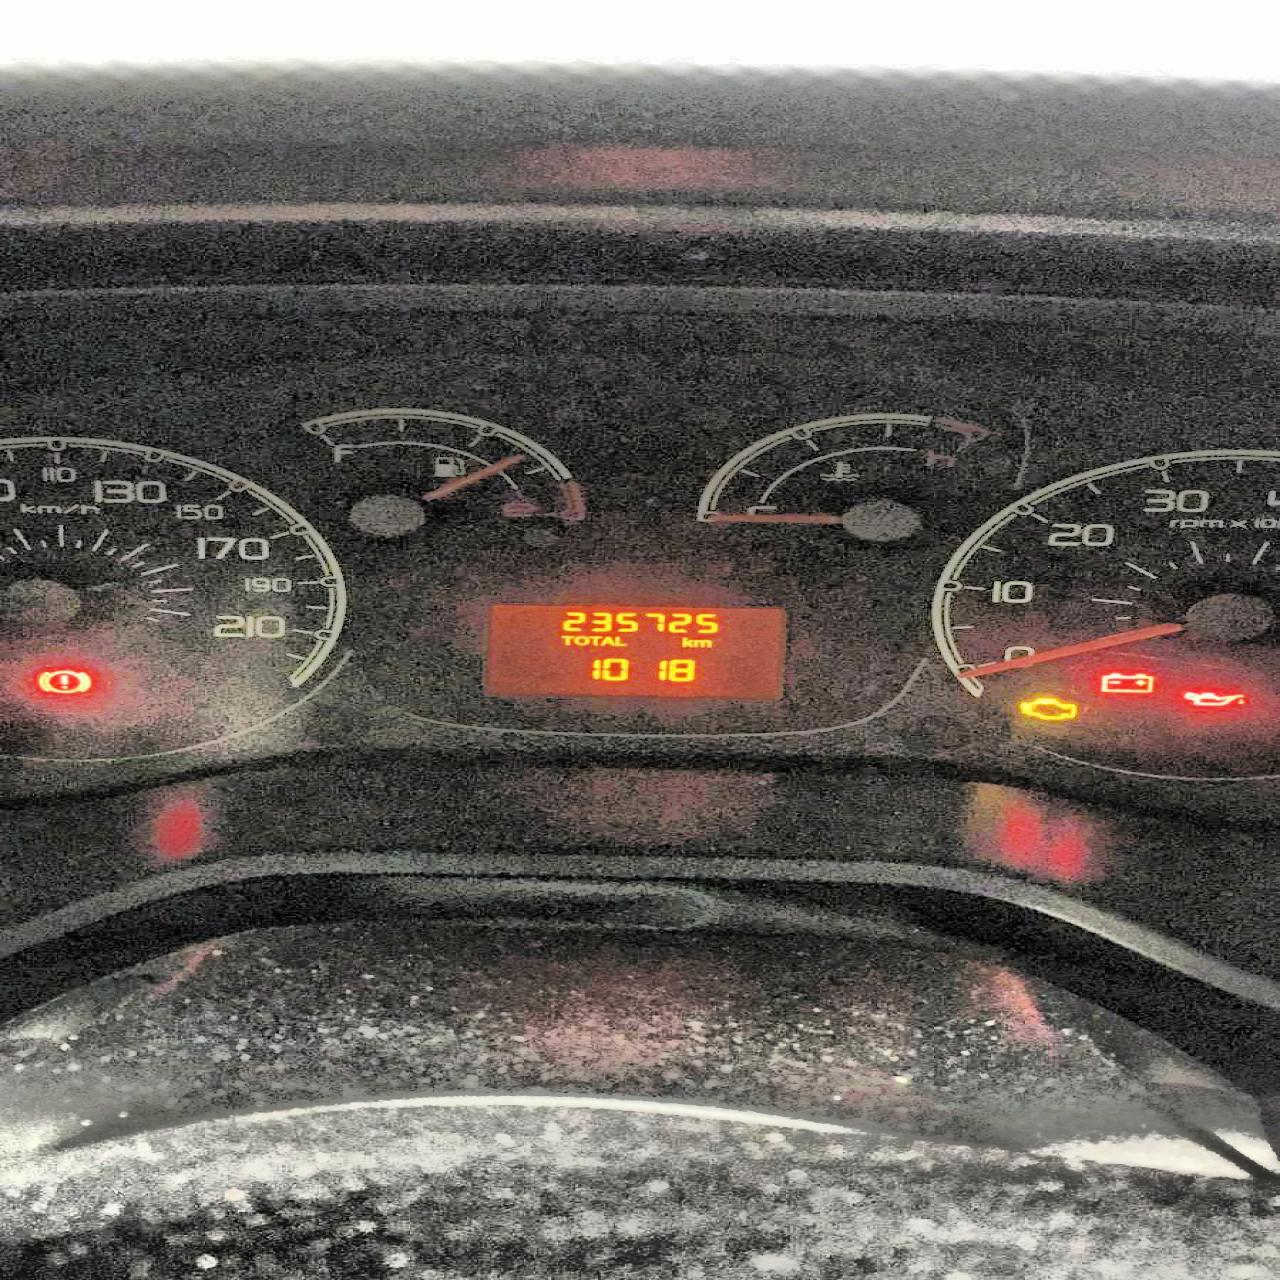0: (601, 658, 628, 680)
1: (590, 659, 601, 680), (656, 659, 667, 681)
2: (667, 612, 690, 633), (560, 611, 585, 631)
3: (588, 611, 612, 631)
5: (614, 611, 638, 632), (694, 613, 717, 633)
7: (644, 612, 665, 631)
8: (666, 659, 695, 681)
X: (572, 634, 587, 646), (612, 635, 628, 646), (598, 635, 614, 646), (692, 639, 712, 647), (558, 634, 573, 645), (588, 635, 602, 646), (680, 636, 694, 647)
odometer: (484, 602, 787, 701)
